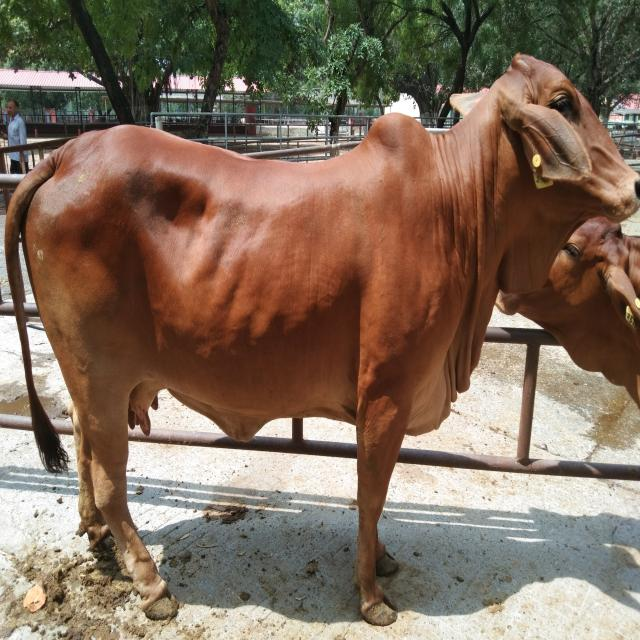1: (351, 111, 439, 151)
Hoof: (144, 590, 179, 621), (360, 598, 397, 626), (375, 550, 399, 576)
